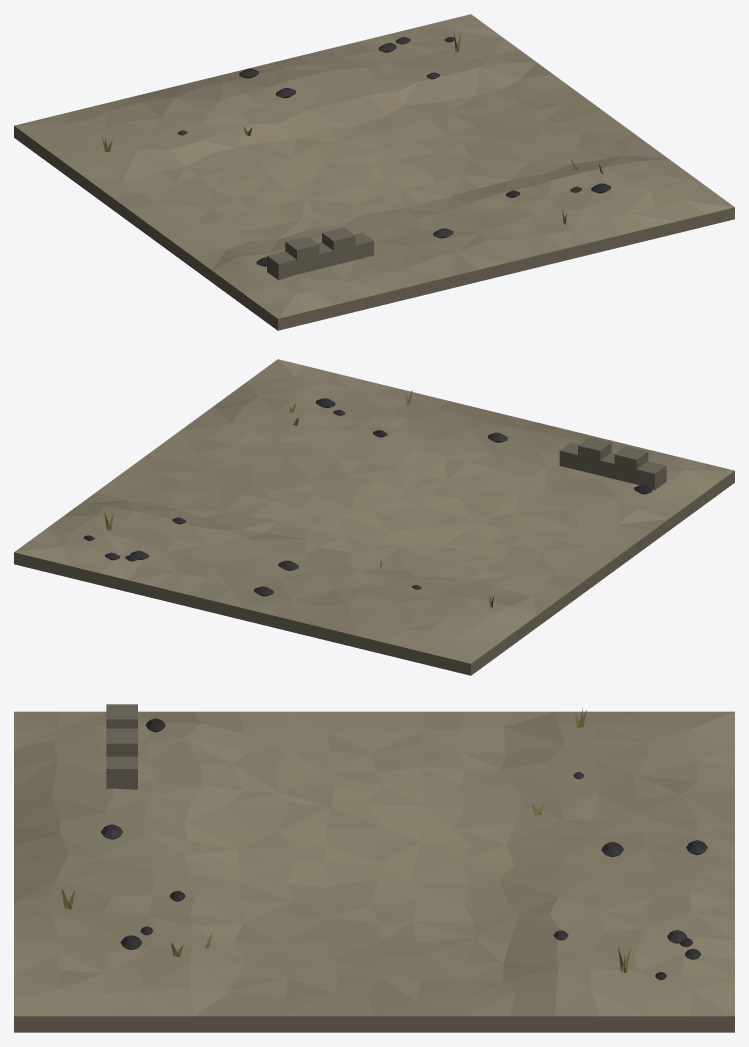
File: CHUNK_glass_ash_desert__stone_windbreak.glb
3 renders of one model, top to bottom at view 1: azimuth 30°, elevation 25°; view 2: azimuth 150°, elevation 25°; view 3: azimuth 270°, elevation 25°, orthographic. The views are drawn at different scales.
Visible parts, largest first — view 1: CHUNK_glass_ash_desert__stone_windbreak; view 2: CHUNK_glass_ash_desert__stone_windbreak; view 3: CHUNK_glass_ash_desert__stone_windbreak.
Part boxes in pixels (x1,y1,x2,y2): CHUNK_glass_ash_desert__stone_windbreak: (14, 14, 734, 330); CHUNK_glass_ash_desert__stone_windbreak: (14, 359, 734, 675); CHUNK_glass_ash_desert__stone_windbreak: (14, 704, 734, 1032).
Bounding box in the file's own units: 8 × 0.72 × 8.
